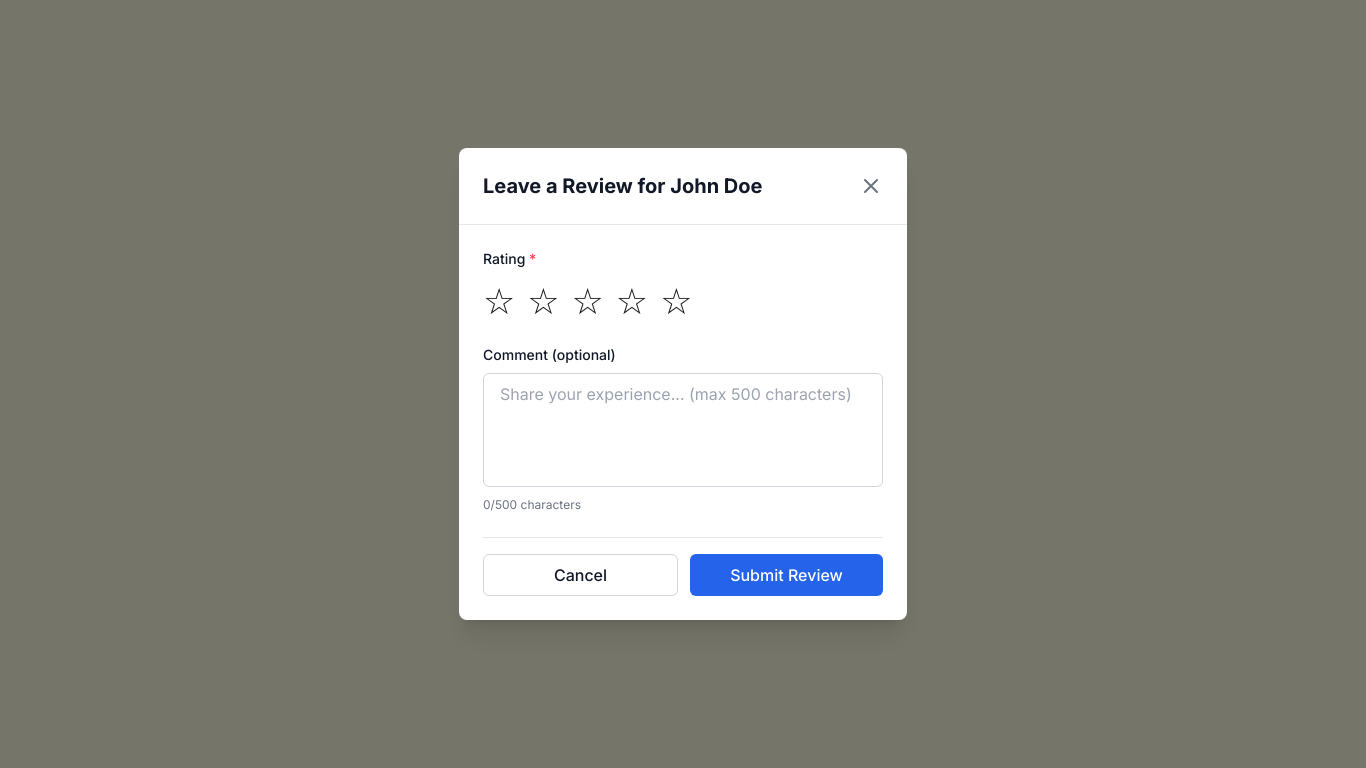
Test: LeaveReviewModal › star rating › shows rating label after selecting a star
Click the button named "Rate 3 stars" at (588, 301), box [572, 281, 604, 321]
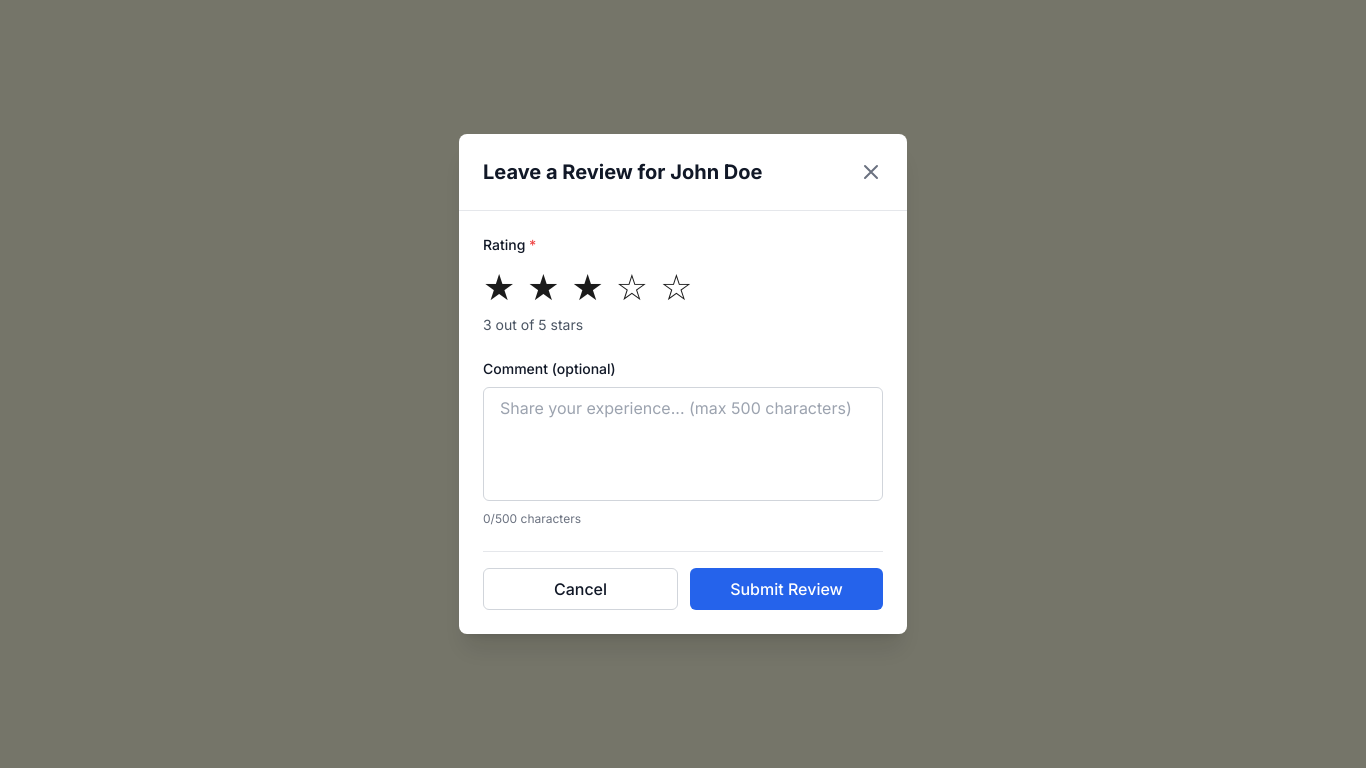
Result: the text "3 out of 5 stars" is shown at [483, 316, 583, 333]
